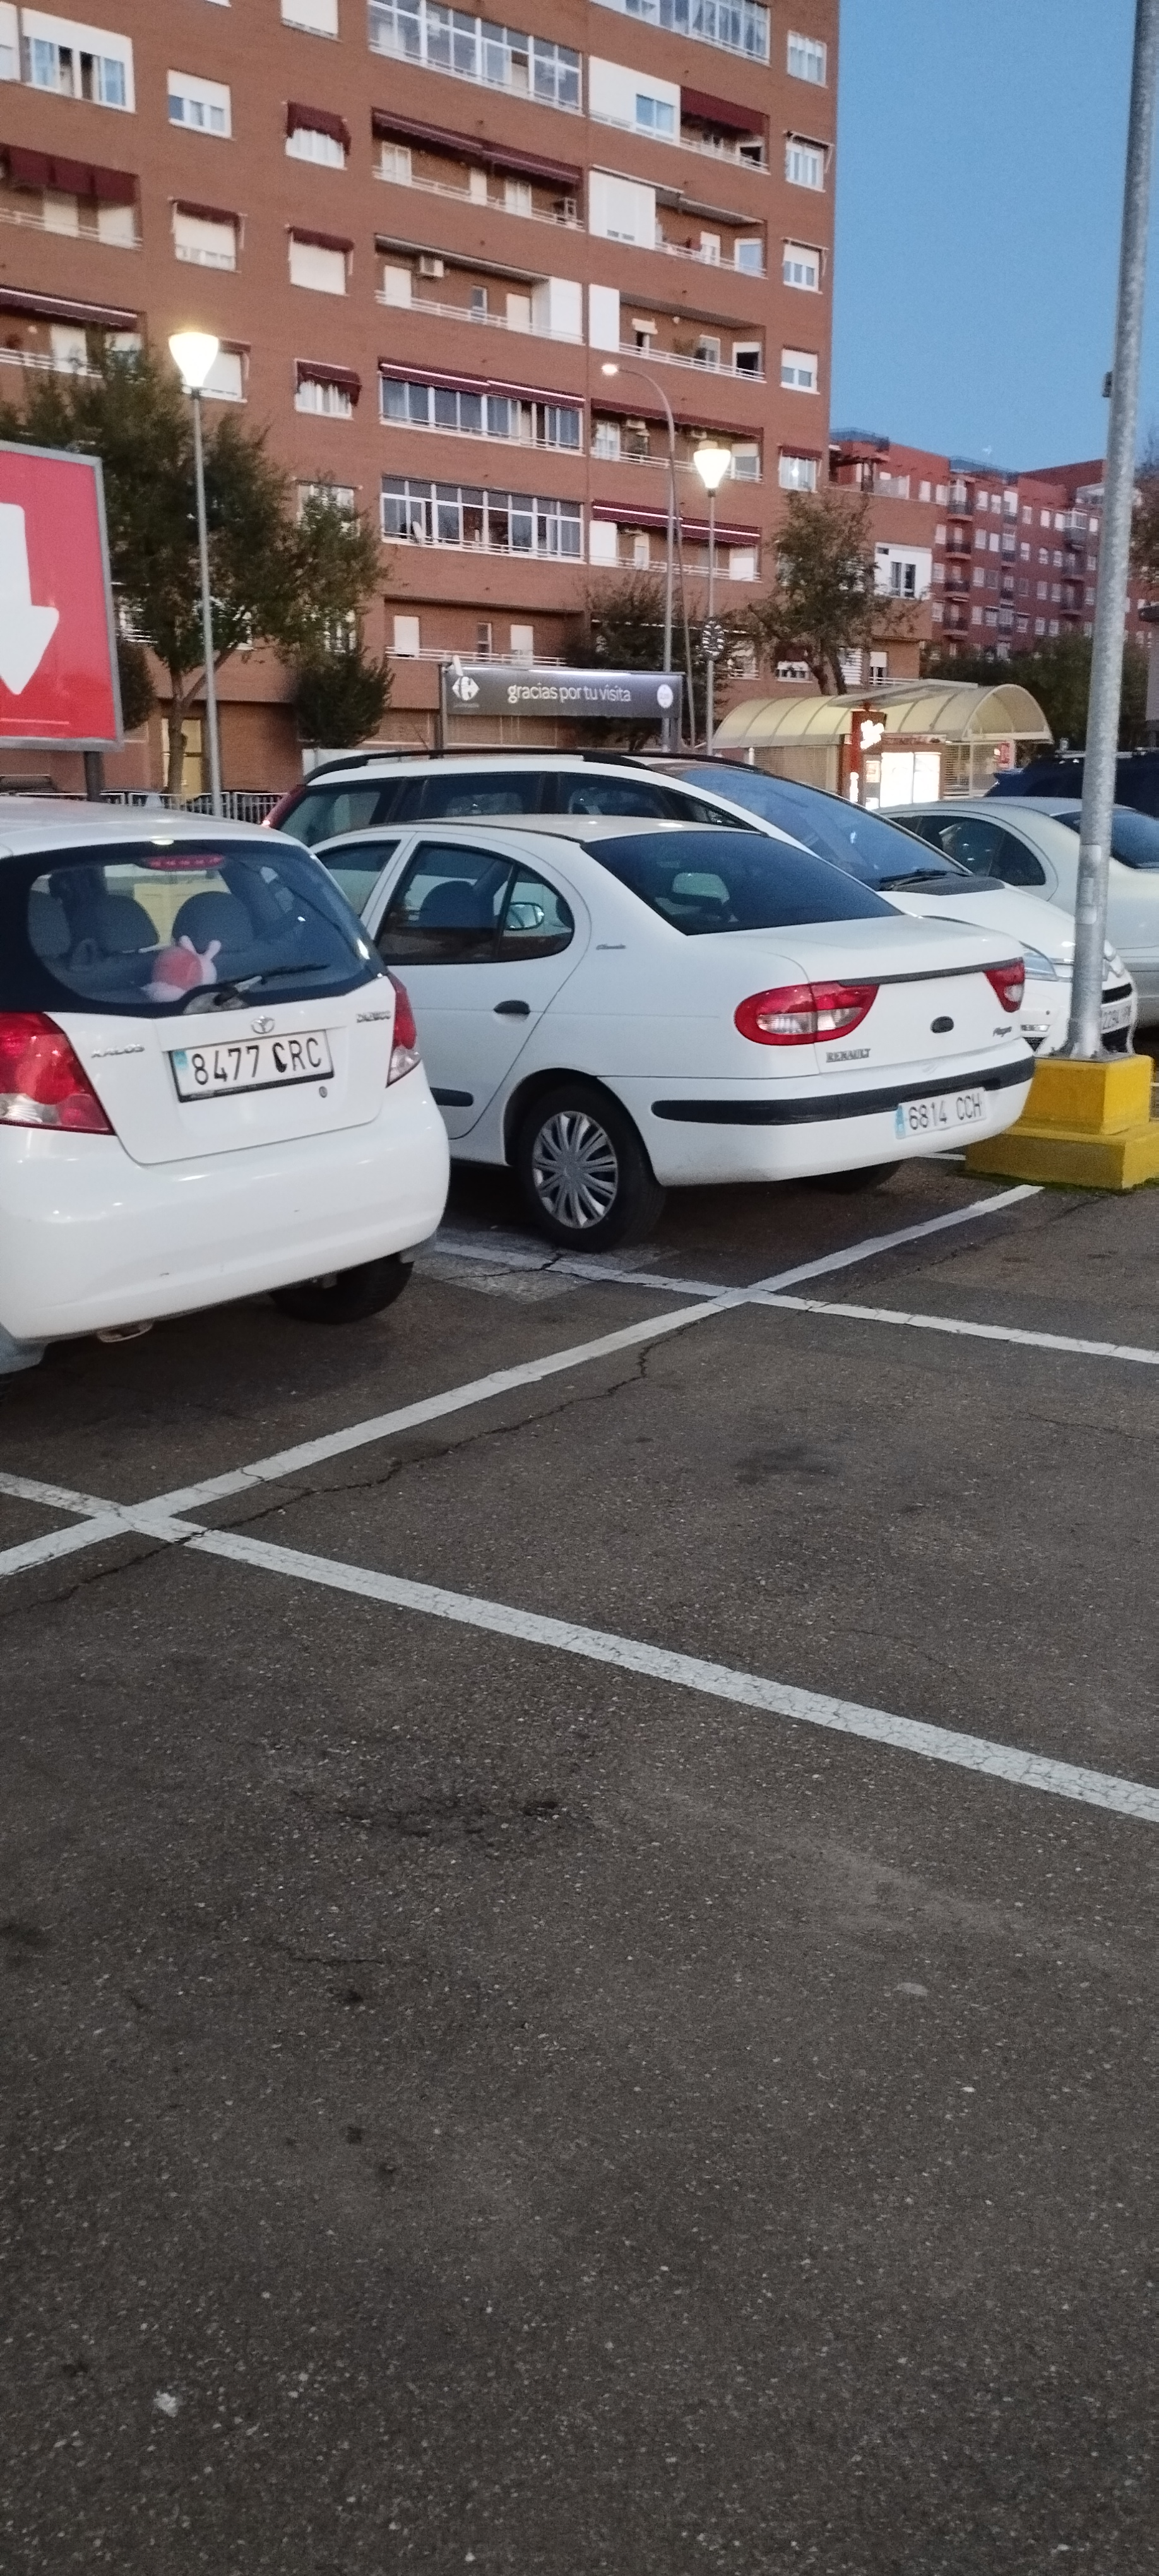Car: (417, 816, 1033, 1253), (0, 795, 439, 1330)
Plate: (169, 1052, 330, 1099), (894, 1106, 988, 1136)
